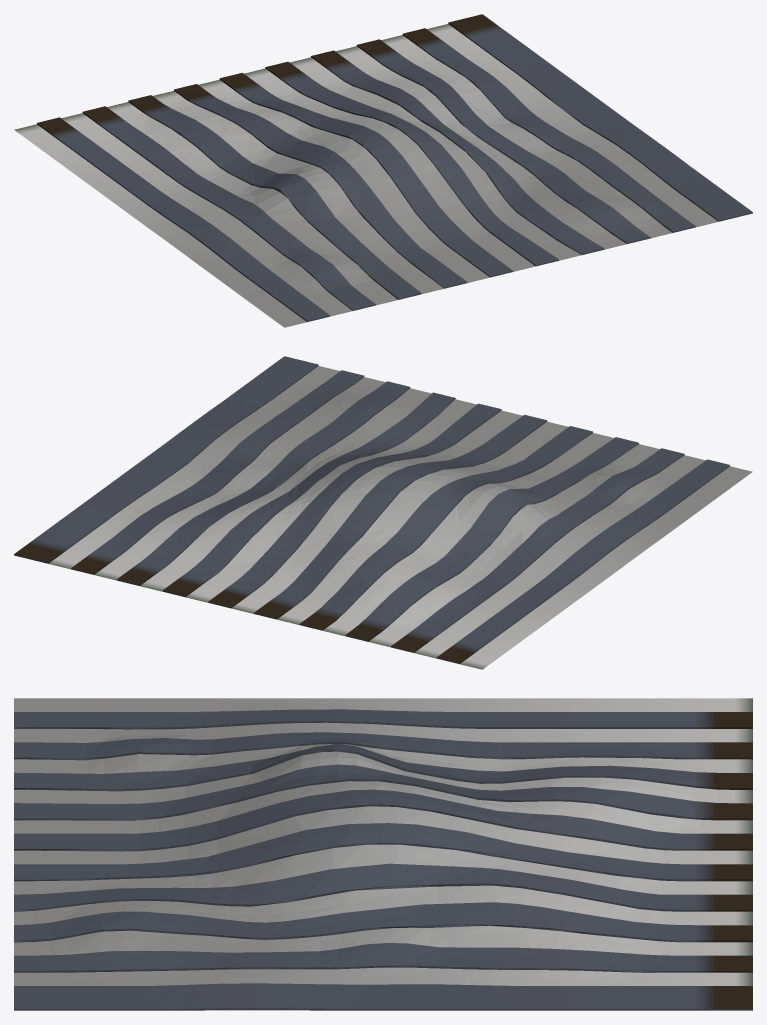
The model's file is Terrain_13.fbx.
The picture shows the model from 3 angles, top to bottom: view 1: azimuth 30°, elevation 25°; view 2: azimuth 150°, elevation 25°; view 3: azimuth 270°, elevation 25°; orthographic projection. The views are drawn at different scales.
Visible parts, largest first — view 1: Terrain_13; view 2: Terrain_13; view 3: Terrain_13.
Boxes of the visible parts, x1,y1,x2,y2 form: Terrain_13: [14, 14, 752, 327]; Terrain_13: [14, 356, 752, 669]; Terrain_13: [14, 698, 752, 1010].
Bounding box in the file's own units: 128 × 9.46 × 128.
